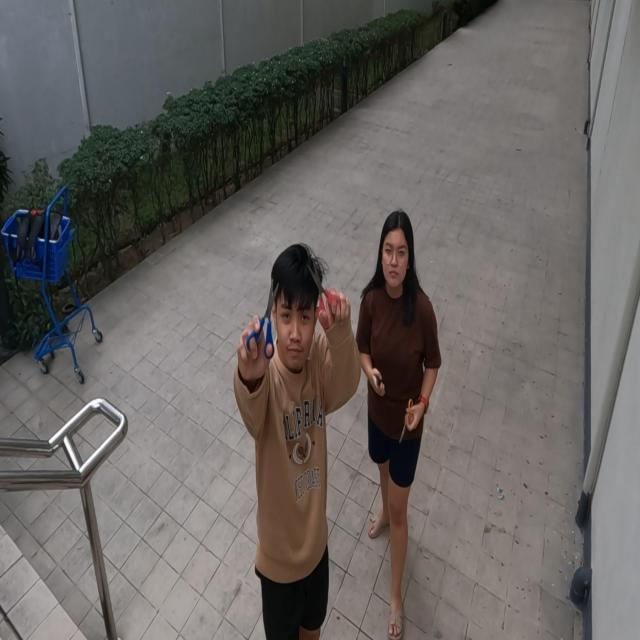scissor: (245, 277, 279, 359), (307, 258, 342, 330), (399, 399, 415, 444)
